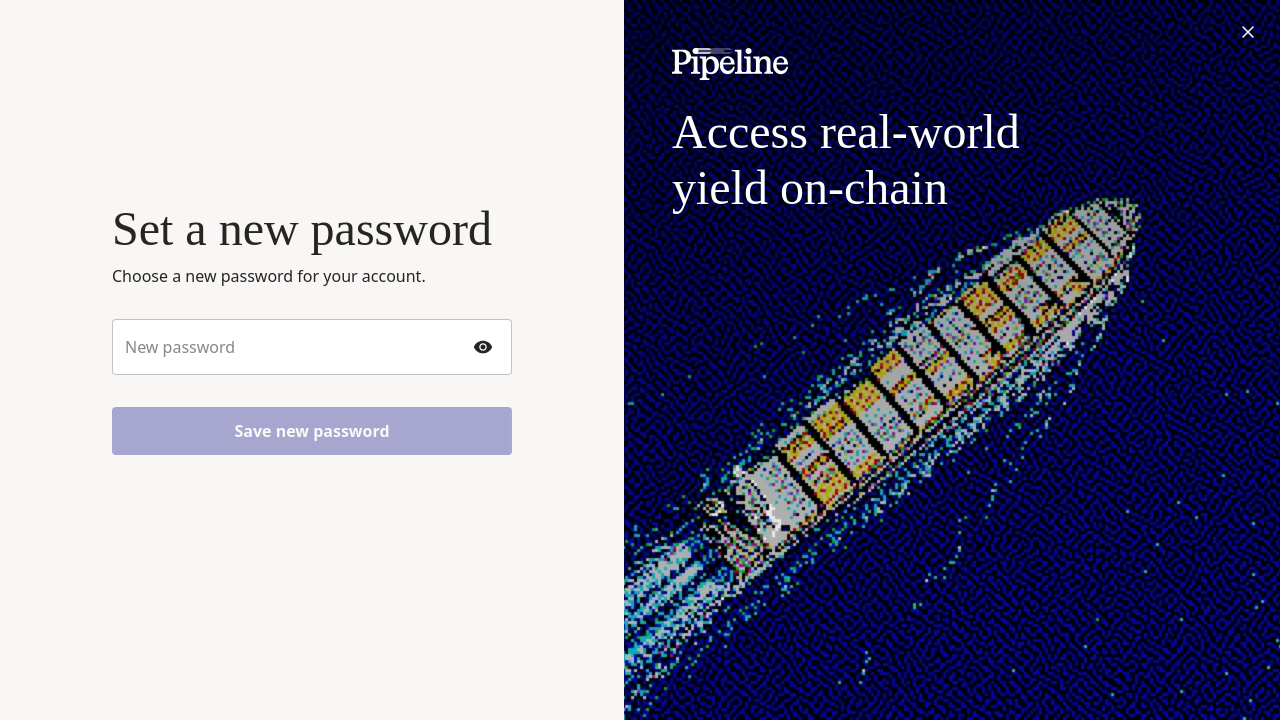
Test: ResetPasswordModal (#1359) — form view › a weak password shows the policy error on blur and keeps submit disabled
Type "weak" into the password field with placeholder "New password" at (294, 347), box [125,336,463,358]
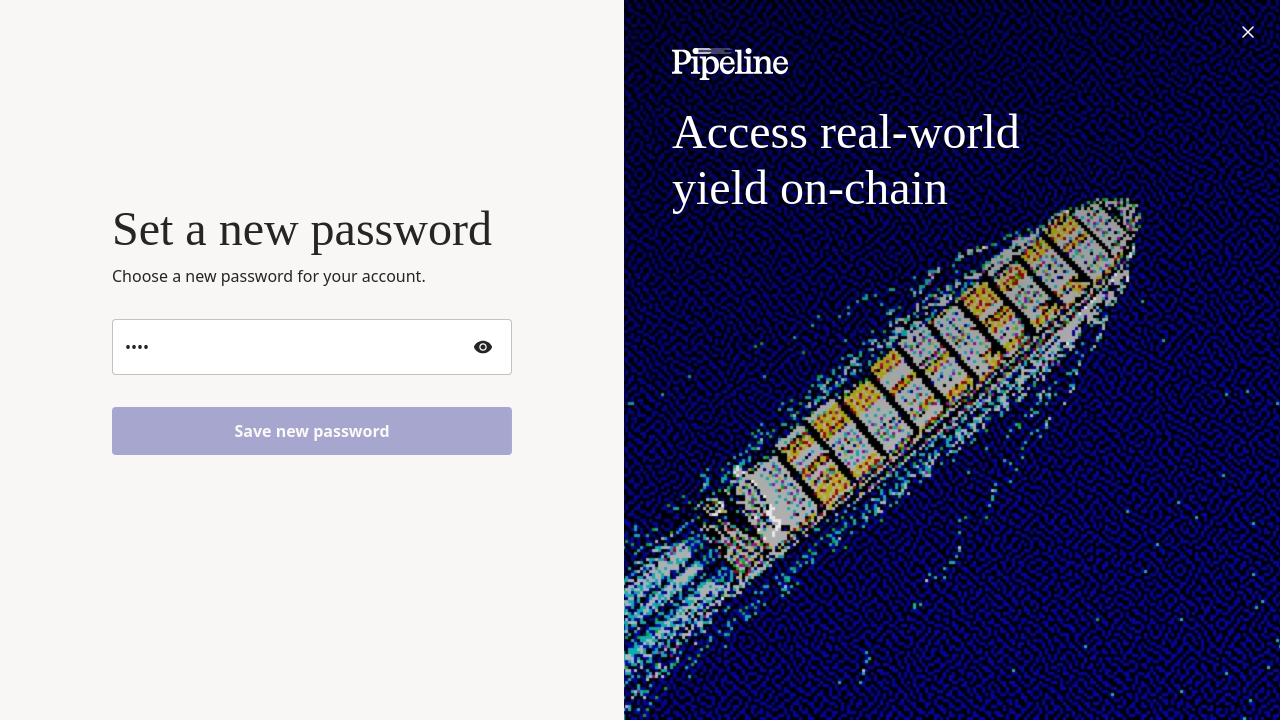
Leave the password field with placeholder "New password", box [125,336,463,358]
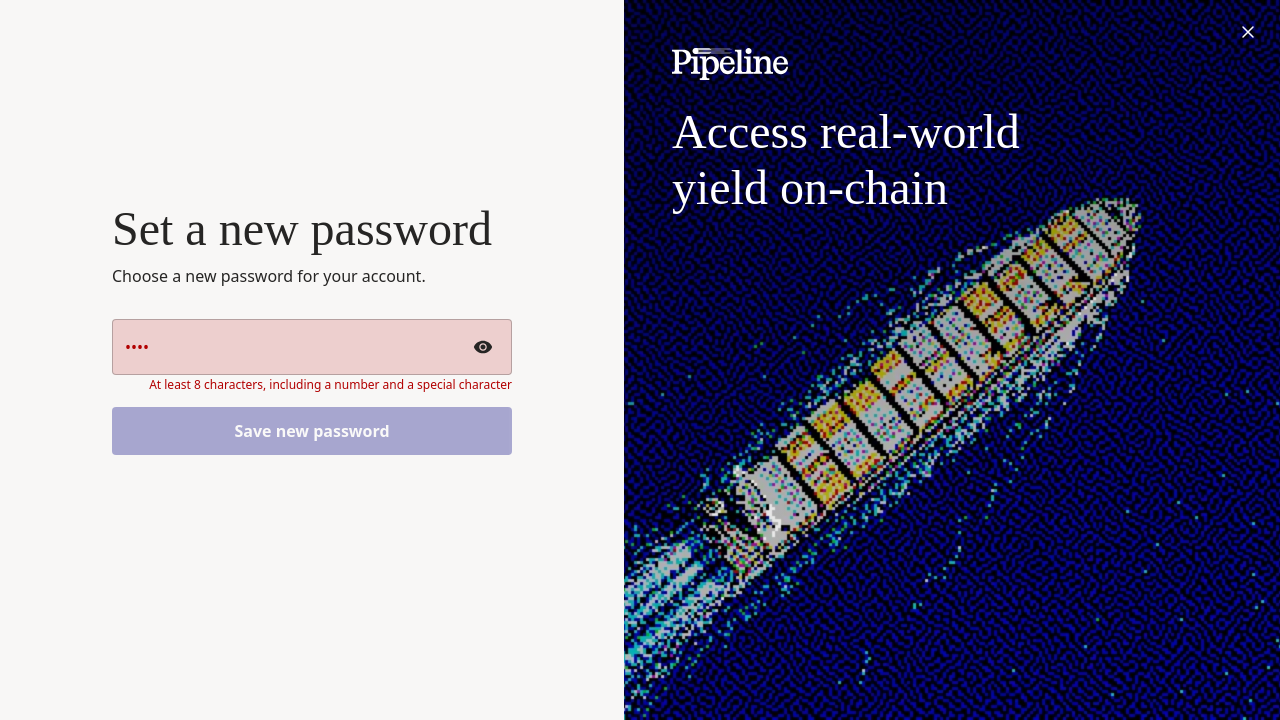
expect the button "Save new password" is disabled: met, box [112,407,512,455]
expect the text "At least 8 characters, including a number and a special character" is shown: met, box [149,377,512,393]
